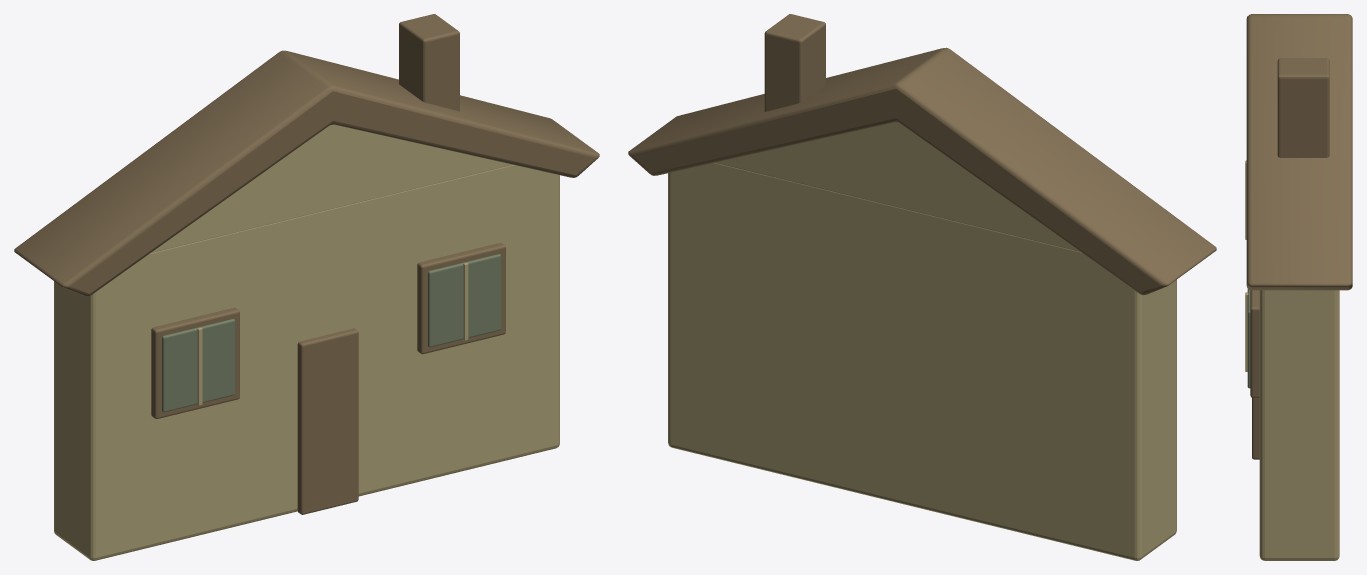
File: garden_distant_house.glb
3 renders of one model, left to right at view 1: azimuth 30°, elevation 25°; view 2: azimuth 150°, elevation 25°; view 3: azimuth 270°, elevation 25°, orthographic.
Parts seen in each view (by area): view 1: GardenGeometryGeometry; view 2: GardenGeometryGeometry; view 3: GardenGeometryGeometry.
Boxes of the visible parts, <box> form: GardenGeometryGeometry: <box>14,14,599,560</box>; GardenGeometryGeometry: <box>628,14,1216,560</box>; GardenGeometryGeometry: <box>1245,14,1352,560</box>.
Size of the model in its own units: 3.16 by 2.43 by 0.537.
